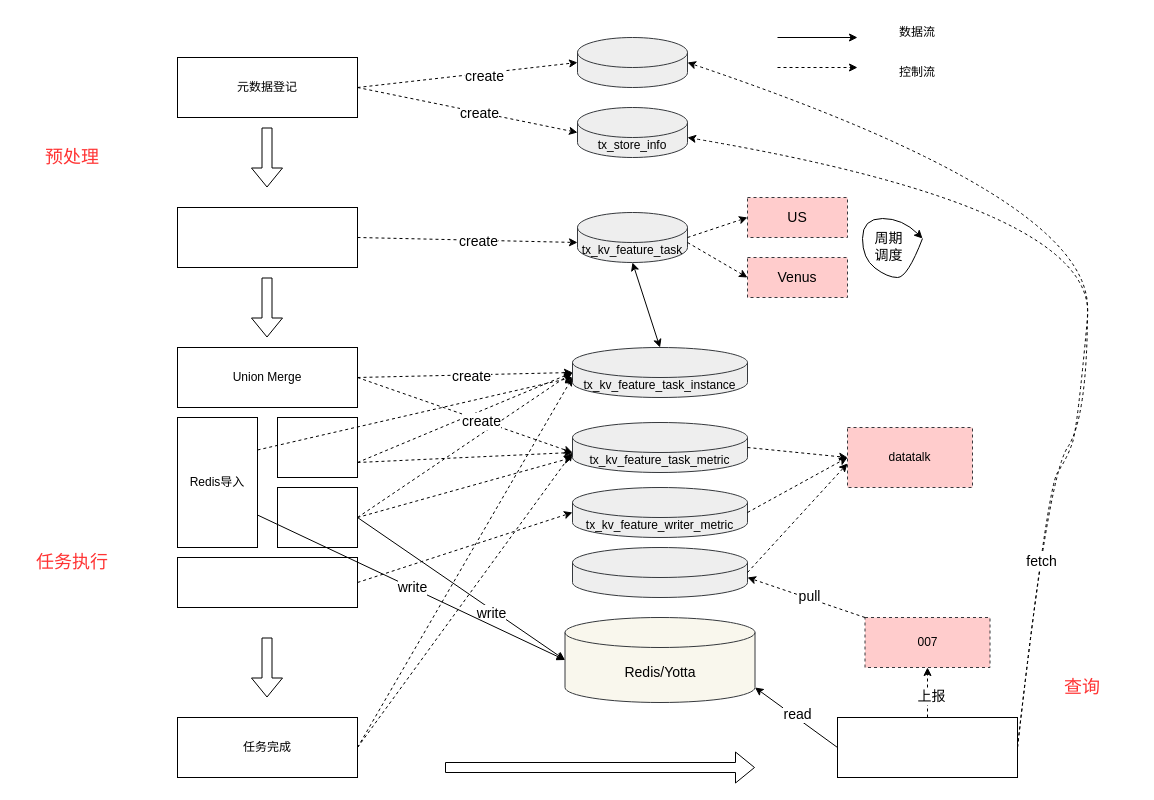
This 1154x800 diagram has some shape labels left out. The centre of each missing label's shape, as x and y in pixels:
"tx_kv_feature_serving_metric" belongs at [660,572].
"up_serving_feature" belongs at [632,62].
"Yotta导入" belongs at [317,517].
"Yotta构建" belongs at [317,447].
"创建任务" belongs at [267,237].
"画像SDK" belongs at [927,747].
"画像指标统计" belongs at [267,582].
